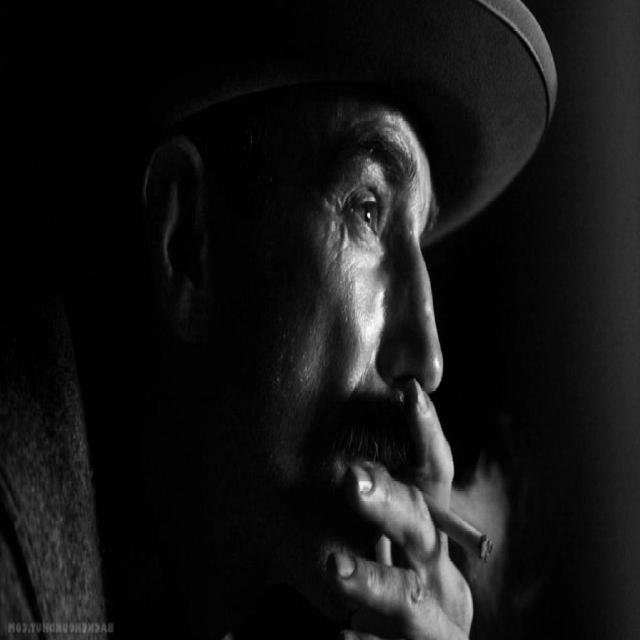smoking: (112, 0, 498, 640)
